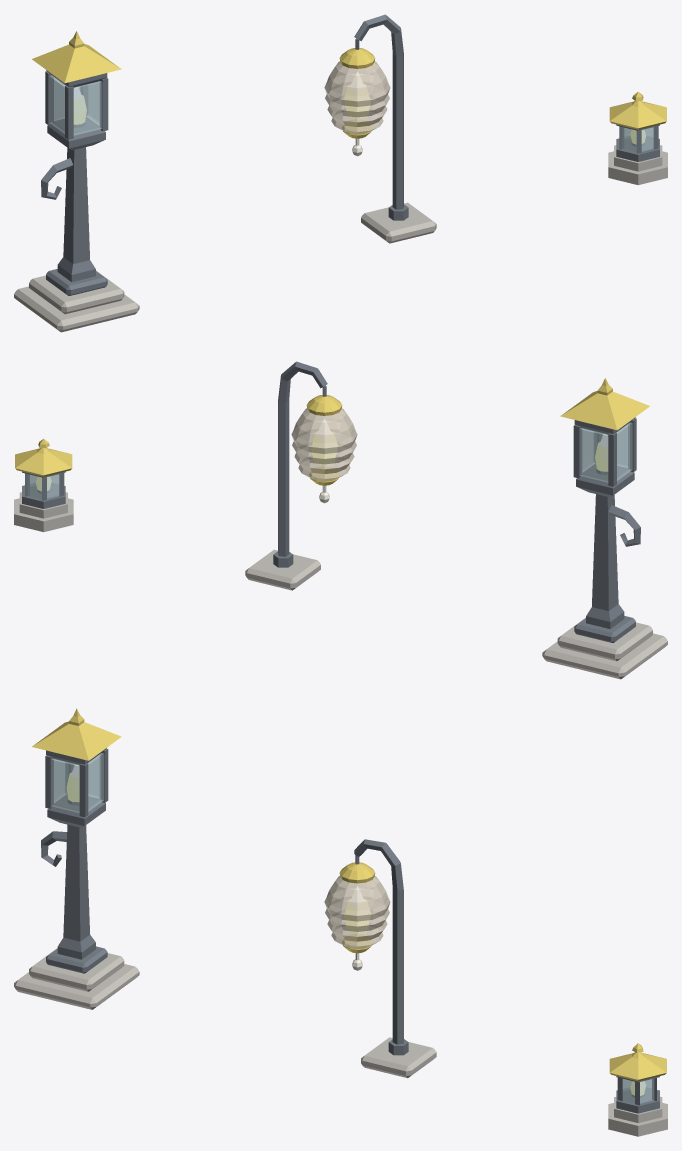
File: Lantern.fbx
The picture shows the model from 3 angles, top to bottom: view 1: azimuth 30°, elevation 25°; view 2: azimuth 150°, elevation 25°; view 3: azimuth 330°, elevation 25°; orthographic projection.
Parts seen in each view (by area): view 1: Lantern.A_Iron, Lantern.A_Base, Lantern.B_Paper, Lantern.B_Iron, Lantern.A_Glass, Lantern.A_Cap, Lantern.B_Base, Lantern.C_Base, Lantern.C_Cap, Lantern.C_Iron, Lantern.B_Brass, Lantern.B_Core (+1 smaller); view 2: Lantern.A_Iron, Lantern.A_Base, Lantern.B_Paper, Lantern.B_Iron, Lantern.A_Glass, Lantern.A_Cap, Lantern.B_Base, Lantern.C_Base, Lantern.C_Cap, Lantern.C_Iron, Lantern.B_Brass, Lantern.B_Core (+1 smaller); view 3: Lantern.A_Iron, Lantern.A_Base, Lantern.B_Paper, Lantern.B_Iron, Lantern.A_Glass, Lantern.A_Cap, Lantern.B_Base, Lantern.C_Base, Lantern.C_Cap, Lantern.C_Iron, Lantern.B_Brass, Lantern.B_Core.
Part boxes in pixels (x1,y1,x2,y2): Lantern.A_Iron: [41, 70, 108, 295]; Lantern.A_Base: [14, 270, 139, 332]; Lantern.B_Paper: [324, 61, 390, 134]; Lantern.B_Iron: [354, 14, 408, 220]; Lantern.A_Glass: [49, 75, 102, 135]; Lantern.A_Cap: [32, 31, 121, 83]; Lantern.B_Base: [361, 202, 436, 243]; Lantern.C_Base: [608, 145, 667, 185]; Lantern.C_Cap: [609, 91, 666, 129]; Lantern.C_Iron: [616, 124, 659, 161]; Lantern.B_Brass: [339, 48, 375, 138]; Lantern.B_Core: [344, 84, 370, 117]; Lantern.A_Iron: [573, 417, 640, 642]; Lantern.A_Base: [542, 617, 667, 679]; Lantern.B_Paper: [291, 408, 357, 481]; Lantern.B_Iron: [273, 361, 327, 567]; Lantern.A_Glass: [579, 422, 632, 482]; Lantern.A_Cap: [560, 378, 649, 430]; Lantern.B_Base: [245, 549, 320, 590]; Lantern.C_Base: [14, 492, 73, 532]; Lantern.C_Cap: [15, 438, 72, 476]; Lantern.C_Iron: [22, 471, 65, 508]; Lantern.B_Brass: [306, 395, 342, 485]; Lantern.B_Core: [311, 431, 337, 464]; Lantern.A_Iron: [41, 748, 108, 973]; Lantern.A_Base: [14, 948, 139, 1009]; Lantern.B_Paper: [324, 876, 390, 948]; Lantern.B_Iron: [354, 839, 408, 1055]; Lantern.A_Glass: [51, 753, 103, 812]; Lantern.A_Cap: [32, 708, 121, 760]; Lantern.B_Base: [361, 1037, 436, 1078]; Lantern.C_Base: [608, 1096, 667, 1136]; Lantern.C_Cap: [609, 1043, 666, 1081]; Lantern.C_Iron: [616, 1076, 659, 1113]; Lantern.B_Brass: [339, 862, 375, 953]; Lantern.B_Core: [344, 899, 370, 931].
Bounding box in the file's own units: 11.04 × 4.62 × 1.44.
